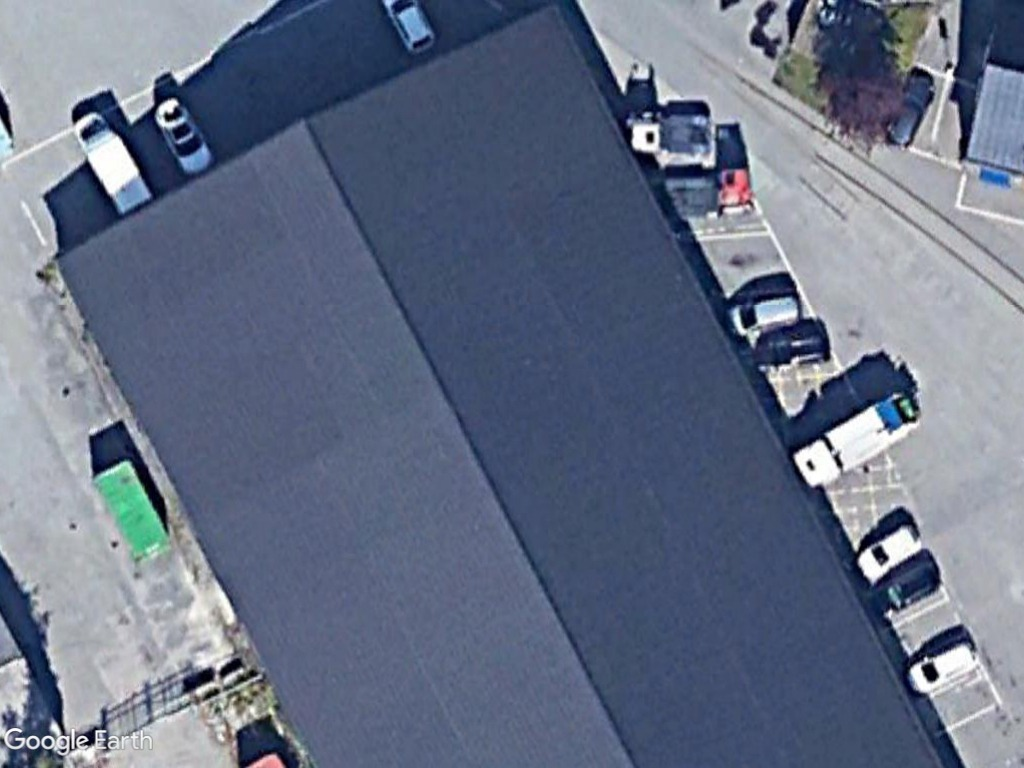car: (871, 551, 952, 623), (899, 636, 985, 700), (851, 515, 926, 587), (724, 288, 808, 345)
van: (67, 111, 157, 219)
